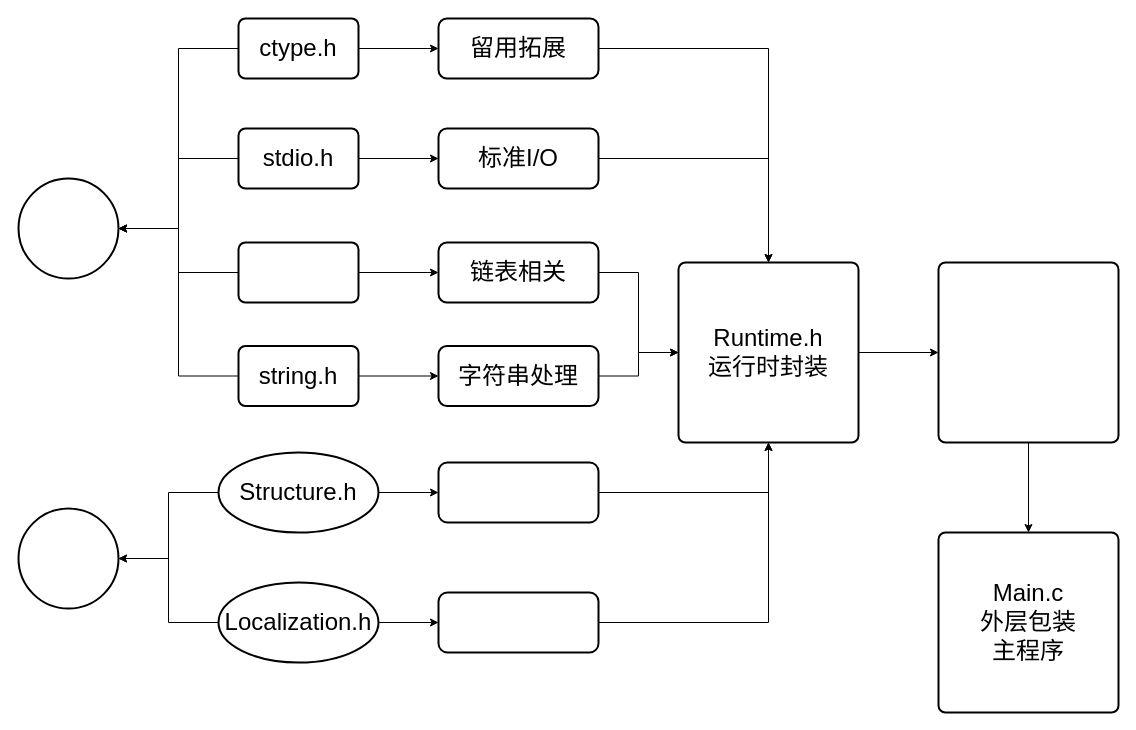
Image size: 1136x730. Some labels were removed from this diagram. Here are the shapes that lost their labels. From the top down, the centre of each, then its label:
pixel 68 228: 系统 头文件
pixel 298 272: stdlib.h
pixel 1028 352: Functions.h 函数原型 与定义
pixel 518 492: 结构体定义
pixel 68 558: 个人 头文件
pixel 518 622: 本地化拓展
